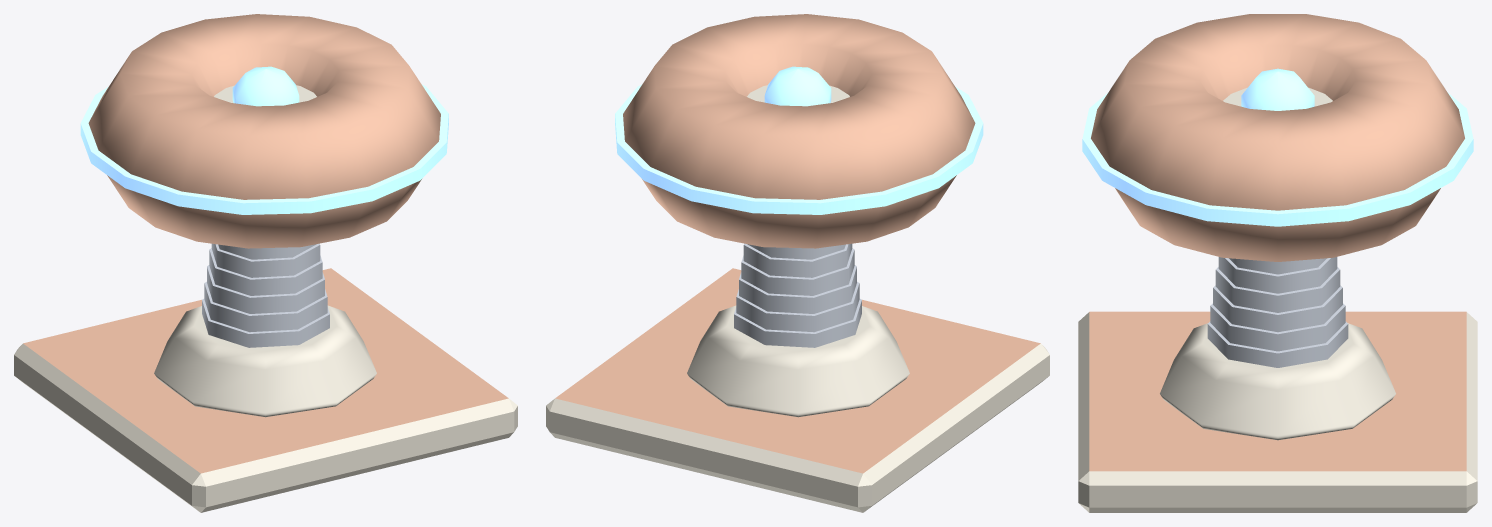
The model's file is R4X_AreaEMP_LOD1.fbx.
3 renders of one model, left to right at view 1: azimuth 30°, elevation 25°; view 2: azimuth 150°, elevation 25°; view 3: azimuth 270°, elevation 25°, orthographic. The views are drawn at different scales.
Visible parts, largest first — view 1: R4X_AreaEMP_LOD1; view 2: R4X_AreaEMP_LOD1; view 3: R4X_AreaEMP_LOD1.
Part boxes in pixels (bbox=[...]): R4X_AreaEMP_LOD1: bbox=[14, 14, 517, 512]; R4X_AreaEMP_LOD1: bbox=[546, 14, 1049, 512]; R4X_AreaEMP_LOD1: bbox=[1078, 14, 1477, 512].
Size of the model in its own units: 0.52 by 0.52 by 0.52.
